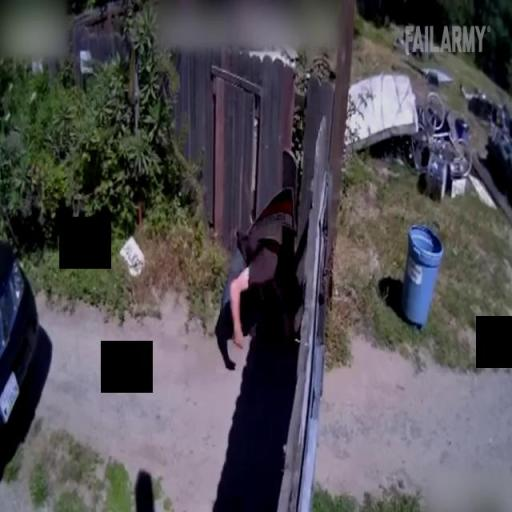Fall: (210, 206, 300, 354)
